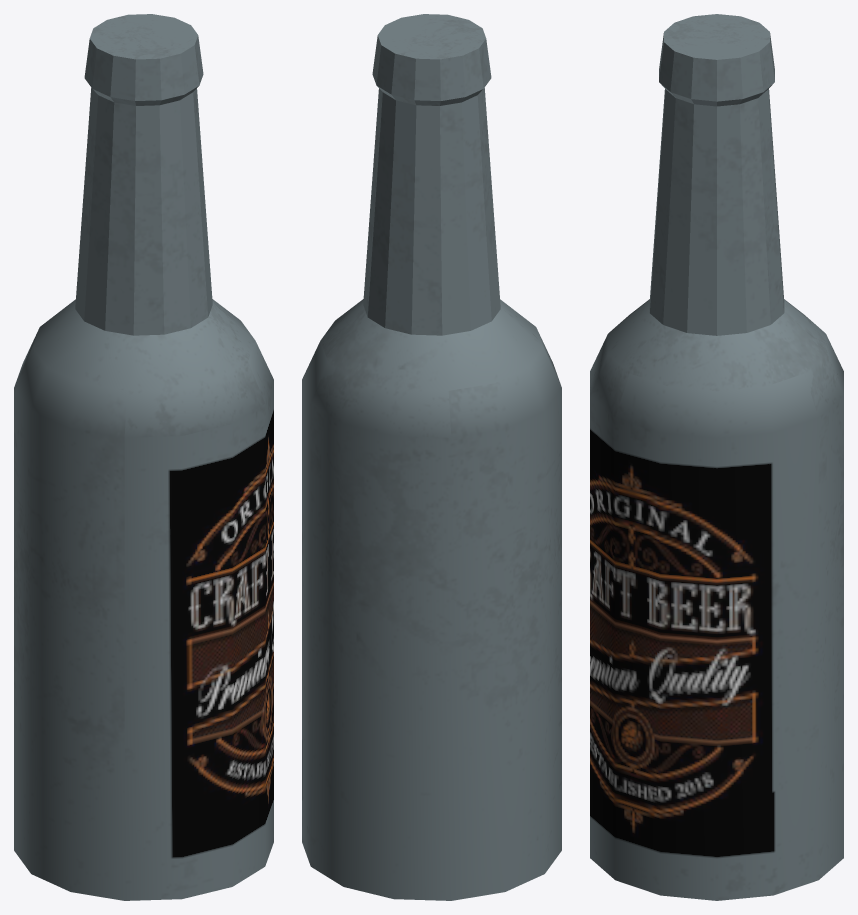
Rendered from beerBottle.fbx.
3 renders of one model, left to right at view 1: azimuth 30°, elevation 25°; view 2: azimuth 150°, elevation 25°; view 3: azimuth 270°, elevation 25°, orthographic.
Parts seen in each view (by area): view 1: pCylinder19; view 2: pCylinder19; view 3: pCylinder19.
Part boxes in pixels (x1,y1,x2,y2): pCylinder19: (14,14,273,900); pCylinder19: (302,14,561,900); pCylinder19: (590,14,843,900).
Bounding box in the file's own units: 0.0808 × 0.2772 × 0.0788.
